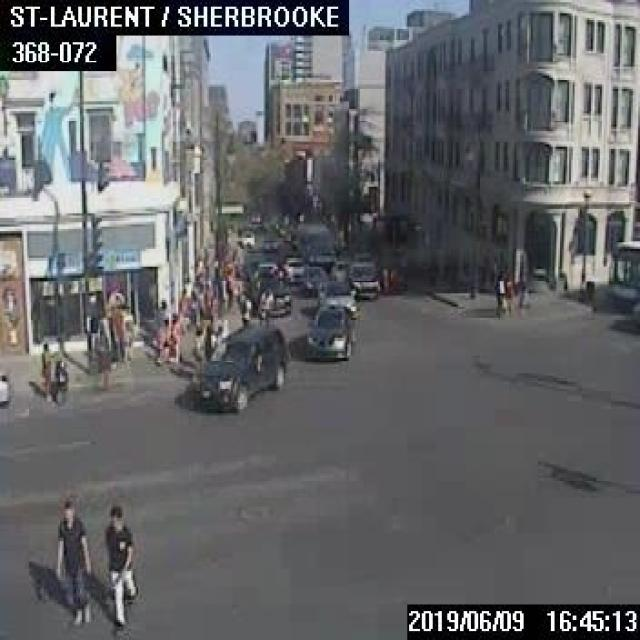bus: (606, 238, 638, 312)
pedestrian: (51, 496, 91, 626), (100, 501, 137, 627), (152, 299, 168, 344), (491, 271, 505, 317), (52, 354, 66, 396), (39, 338, 49, 391), (505, 278, 512, 314)
vehicle: (189, 324, 289, 412), (304, 303, 354, 358), (252, 271, 288, 313), (319, 277, 356, 316), (298, 223, 333, 264), (348, 262, 378, 298), (301, 265, 326, 292), (282, 255, 307, 280), (330, 258, 349, 283), (0, 369, 7, 407), (240, 228, 253, 246), (261, 236, 276, 250)
